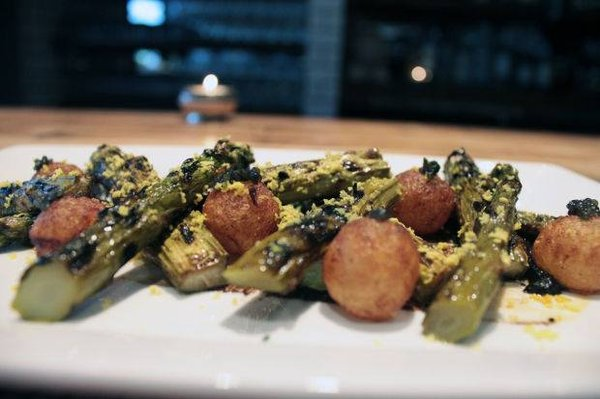curry: (415, 149, 599, 344)
